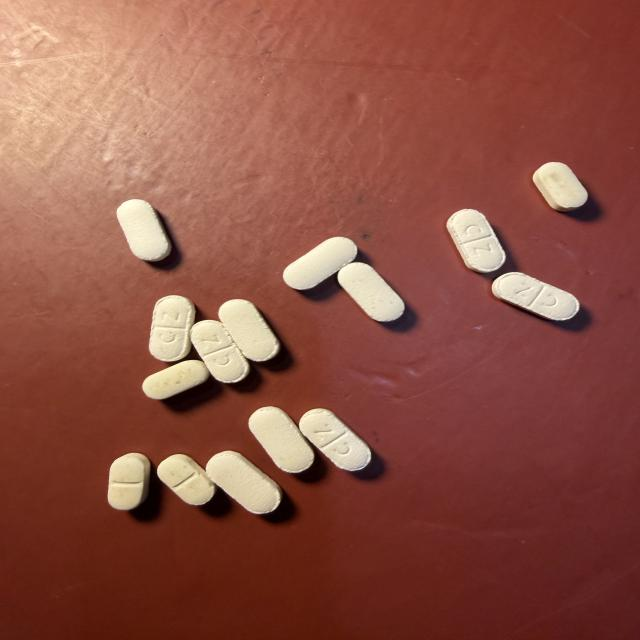pill: (207, 451, 281, 514), (300, 409, 371, 471), (249, 407, 314, 472), (492, 273, 579, 320), (283, 237, 357, 289), (338, 263, 404, 321), (219, 299, 279, 361), (191, 320, 249, 383), (447, 209, 505, 272), (117, 200, 171, 261), (157, 454, 216, 505), (150, 296, 194, 361), (533, 162, 587, 211), (143, 360, 209, 399), (108, 453, 150, 510)
